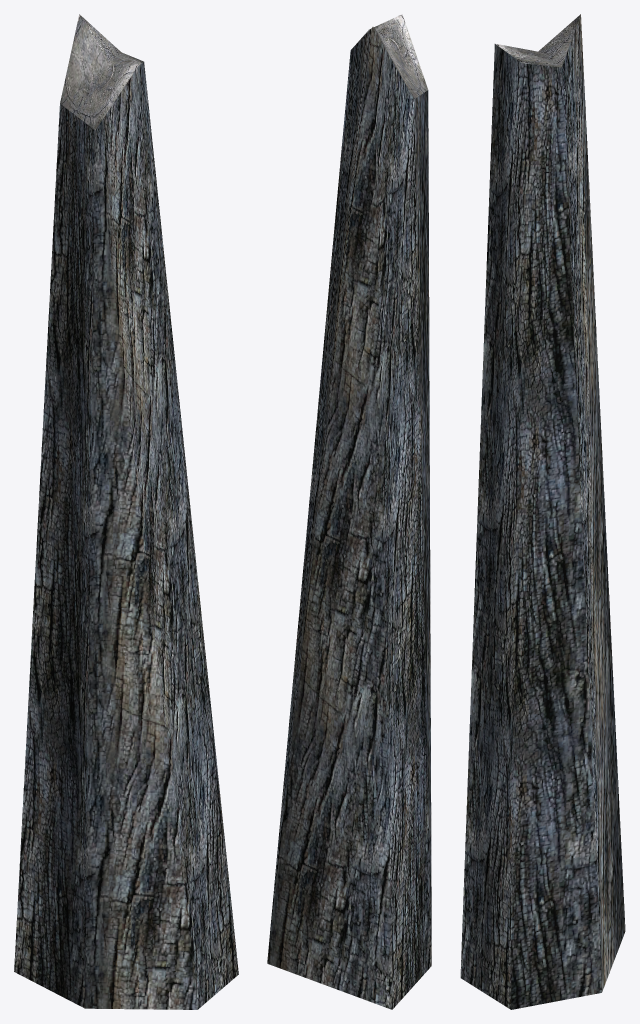
The model's file is decd_scorched_tallbirch_broke_l2.fbx.
3 renders of one model, left to right at view 1: azimuth 30°, elevation 25°; view 2: azimuth 150°, elevation 25°; view 3: azimuth 270°, elevation 25°, orthographic. The views are drawn at different scales.
Visible parts, largest first — view 1: mesh_node; view 2: mesh_node; view 3: mesh_node.
Part boxes in pixels (x1,y1,x2,y2): mesh_node: (14, 14, 238, 1009); mesh_node: (267, 14, 431, 1009); mesh_node: (460, 14, 625, 1009).
Bounding box in the file's own units: 3.47 × 19.26 × 3.07.
2 materials, 2 textured.
